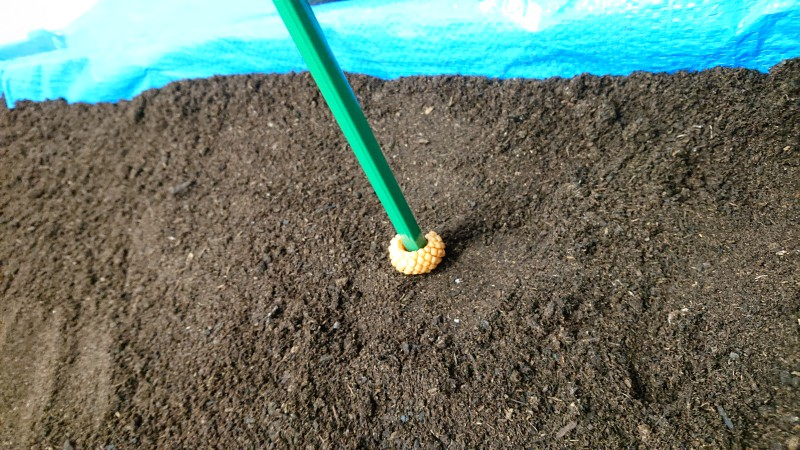eggs: (386, 220, 450, 278)
